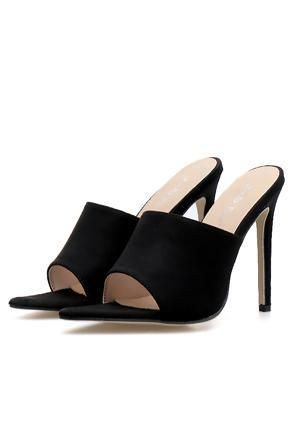gamuza: (10, 201, 244, 323)
